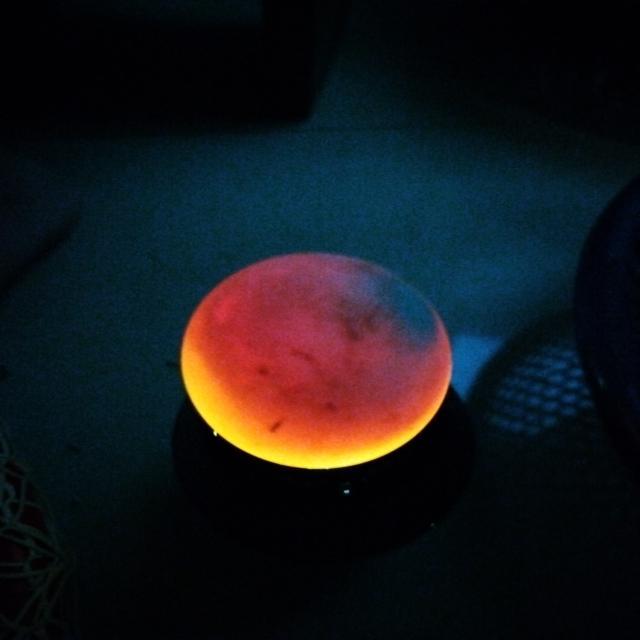Area Infectada: (340, 263, 443, 353)
